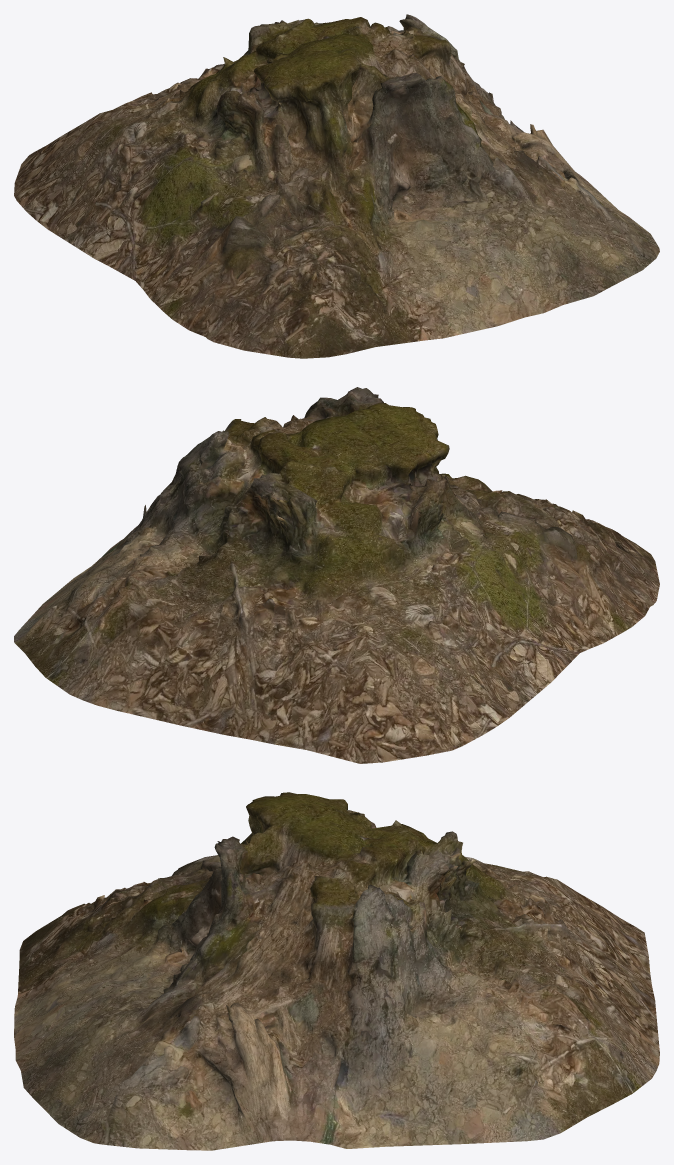
The model's file is stump_a.glb.
3 renders of one model, top to bottom at view 1: azimuth 30°, elevation 25°; view 2: azimuth 150°, elevation 25°; view 3: azimuth 270°, elevation 25°, orthographic. The views are drawn at different scales.
Visible parts, largest first — view 1: tree_stump_01; view 2: tree_stump_01; view 3: tree_stump_01.
Boxes of the visible parts, bbox=[...] form: tree_stump_01: bbox=[14, 14, 659, 358]; tree_stump_01: bbox=[14, 387, 659, 763]; tree_stump_01: bbox=[14, 792, 659, 1150].
Size of the model in its own units: 1.43 by 0.5725 by 1.59.
1 material, 1 textured.
